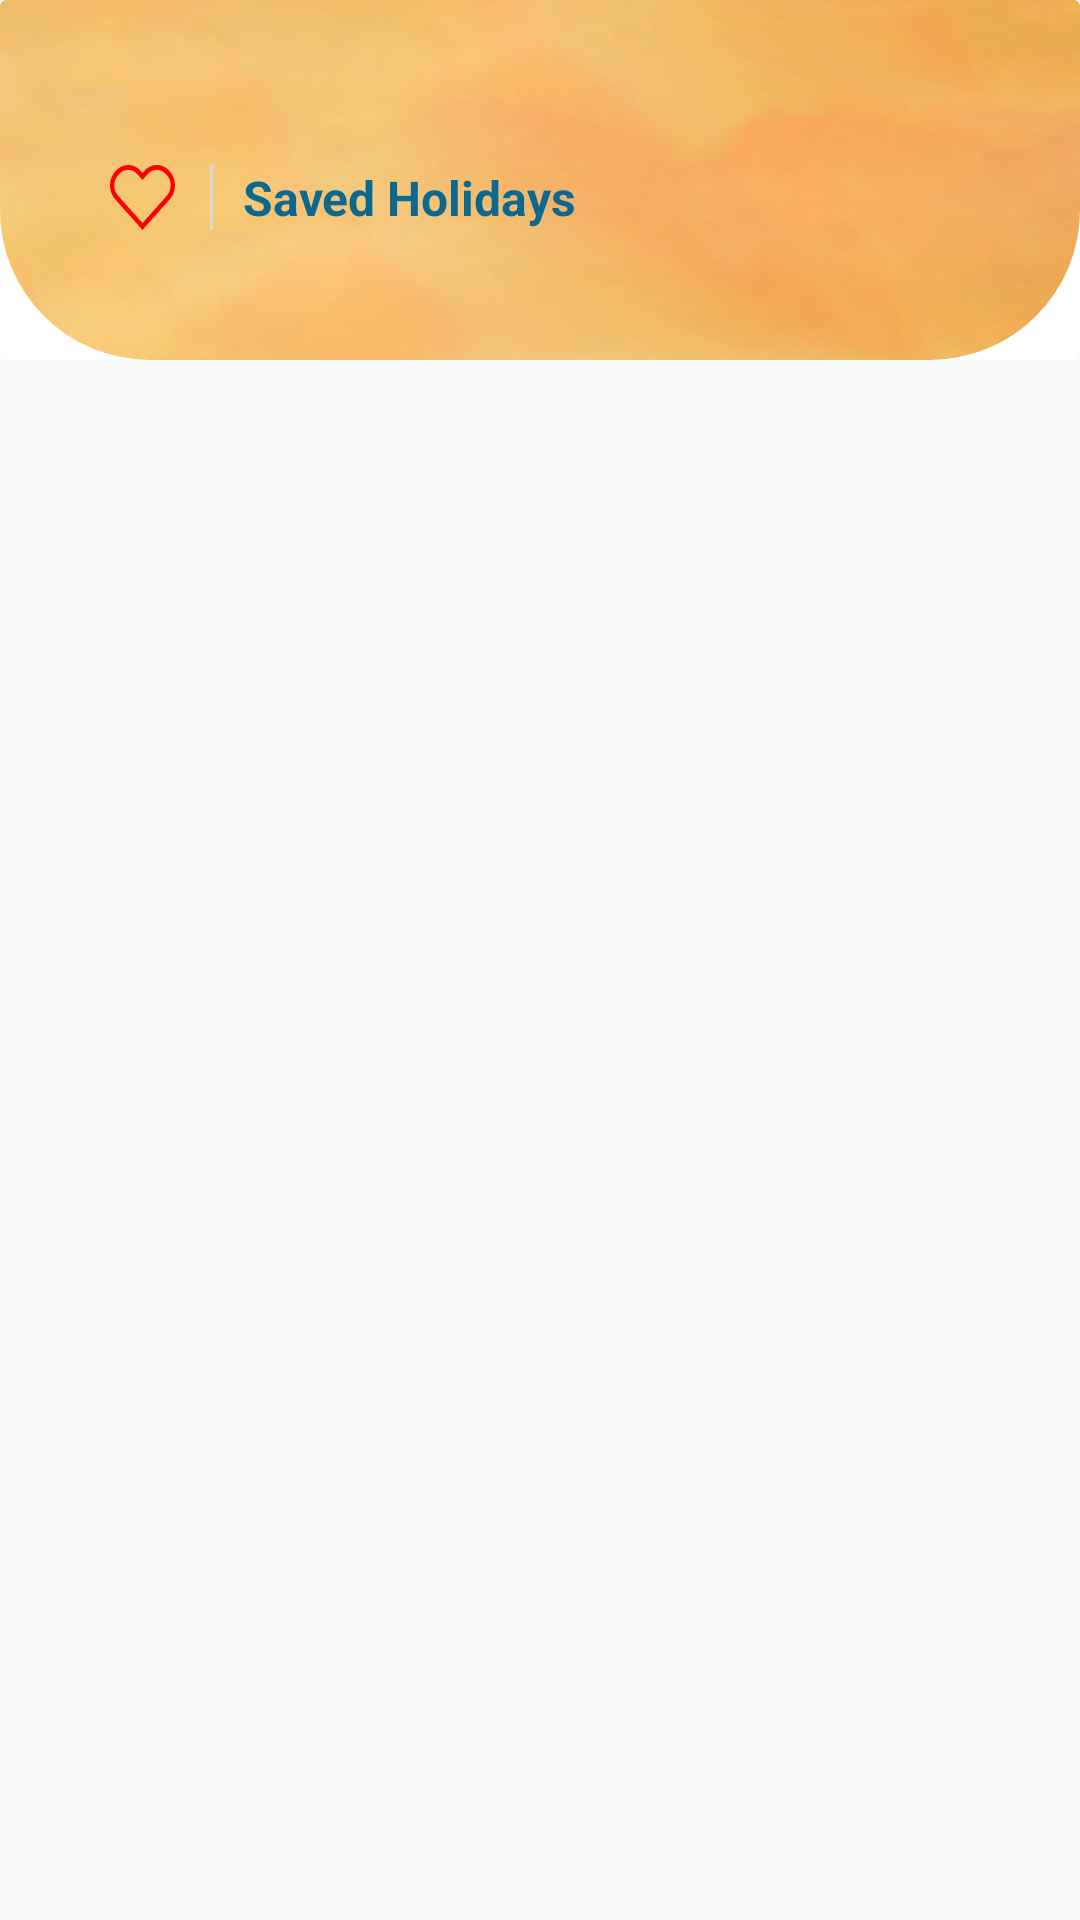

Named icons in this screenshot (1080 x 1920) and their bounding boxes, (x1, y1, x2, y2):
heart: (110, 165, 175, 230)
